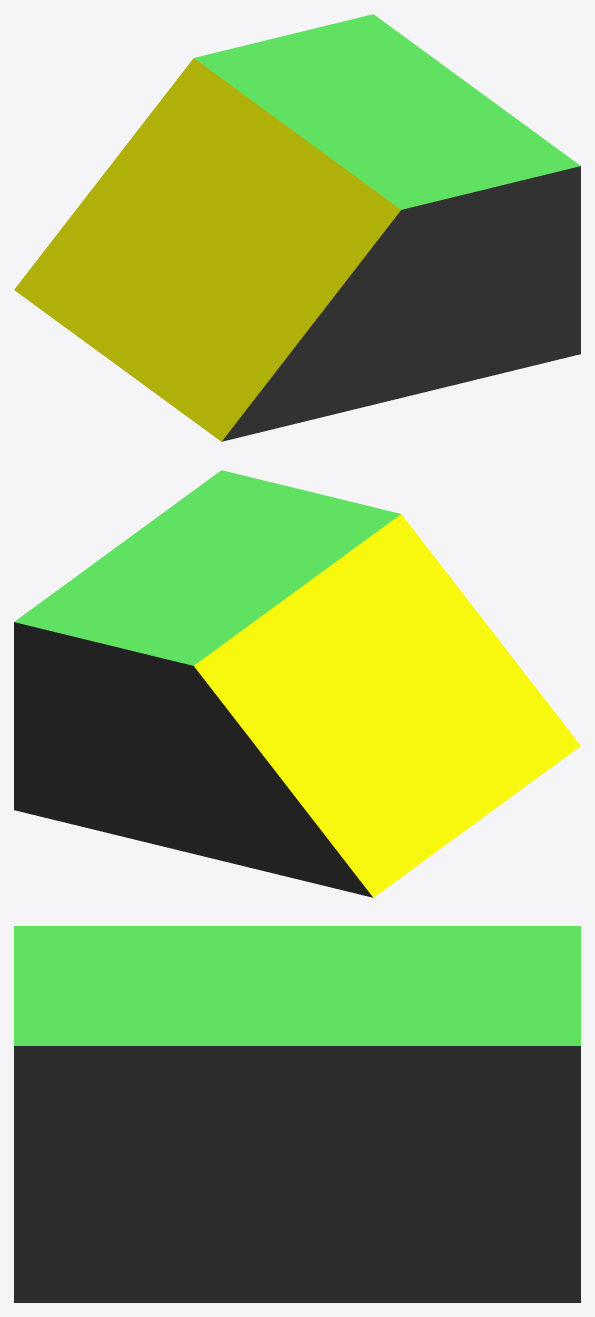
Rendered from dice.dae.
The picture shows the model from 3 angles, top to bottom: view 1: azimuth 30°, elevation 25°; view 2: azimuth 150°, elevation 25°; view 3: azimuth 270°, elevation 25°; orthographic projection. The views are drawn at different scales.
Parts seen in each view (by area): view 1: dice (×3); view 2: dice (×3); view 3: dice (×2).
Boxes of the visible parts, x1,y1,x2,y2 form: dice (×3): (14,14,580,441); dice (×3): (14,470,580,897); dice (×2): (14,926,580,1302).
Bounding box in the file's own units: 39.37 × 39.37 × 19.69.
